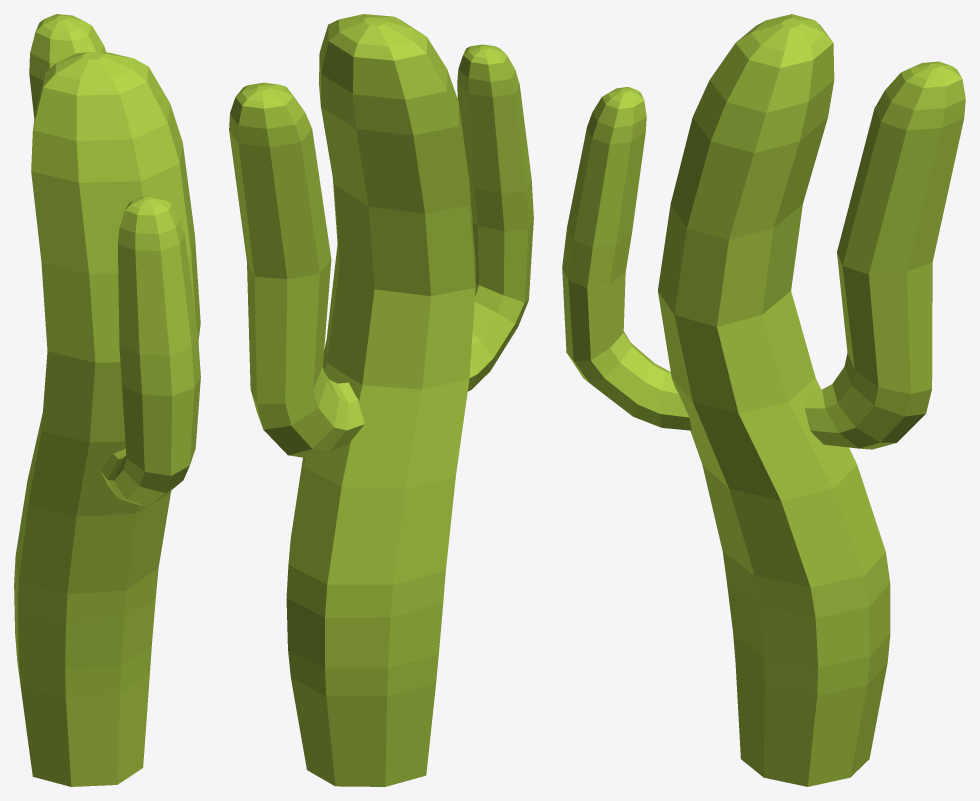
File: Cactus 003.fbx
The picture shows the model from 3 angles, left to right: view 1: azimuth 30°, elevation 25°; view 2: azimuth 150°, elevation 25°; view 3: azimuth 270°, elevation 25°; orthographic projection. The views are drawn at different scales.
Visible parts, largest first — view 1: Cactus 001.002; view 2: Cactus 001.002; view 3: Cactus 001.002.
Boxes of the visible parts, box(x1,y1,x2,y2) form: Cactus 001.002: box(14, 14, 200, 786); Cactus 001.002: box(229, 14, 533, 786); Cactus 001.002: box(562, 14, 965, 786).
Bounding box in the file's own units: 63.45 × 297 × 148.
